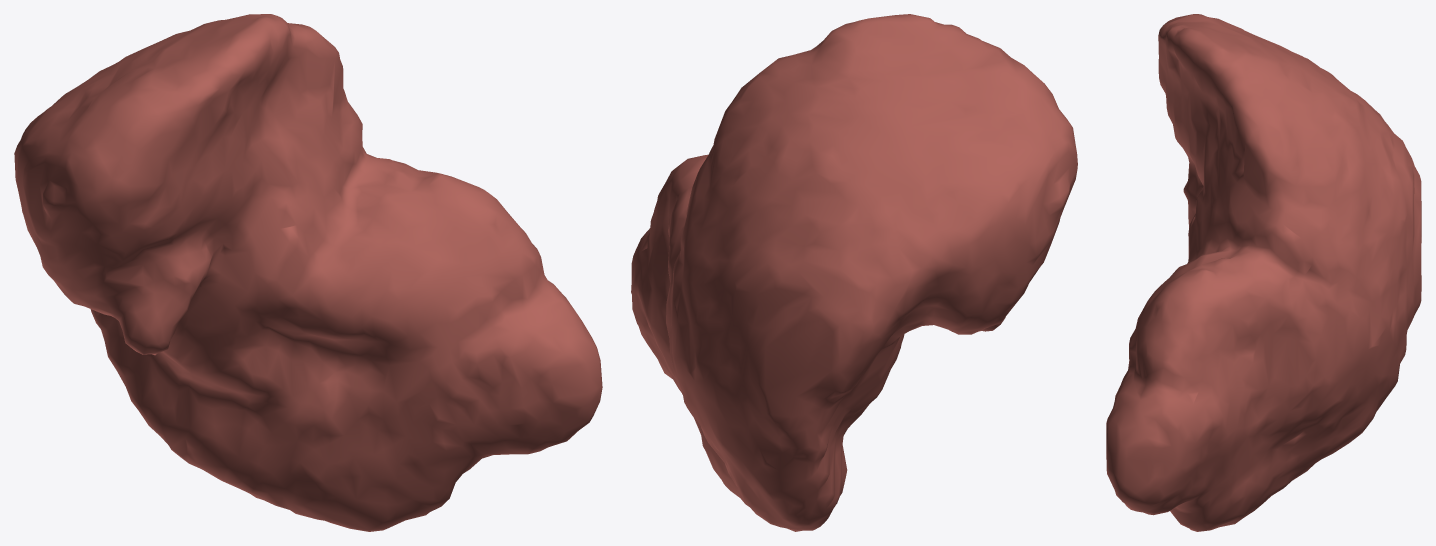
File: tsd_s0196_older_adult_female.lymphatic.LOD1.glb
3 views of the same model, side by side, from view 1: azimuth 30°, elevation 25°; view 2: azimuth 150°, elevation 25°; view 3: azimuth 270°, elevation 25° (orthographic). The views are drawn at different scales.
Parts seen in each view (by area): view 1: TSD_S0196.OLDER_ADULT.FEMALE.LYMPHATIC.SPLEEN; view 2: TSD_S0196.OLDER_ADULT.FEMALE.LYMPHATIC.SPLEEN; view 3: TSD_S0196.OLDER_ADULT.FEMALE.LYMPHATIC.SPLEEN.
Boxes of the visible parts, x1,y1,x2,y2 form: TSD_S0196.OLDER_ADULT.FEMALE.LYMPHATIC.SPLEEN: (14,14,602,531); TSD_S0196.OLDER_ADULT.FEMALE.LYMPHATIC.SPLEEN: (631,14,1077,531); TSD_S0196.OLDER_ADULT.FEMALE.LYMPHATIC.SPLEEN: (1106,14,1421,531).
Bounding box in the file's own units: 0.0933 × 0.0964 × 0.0633.
